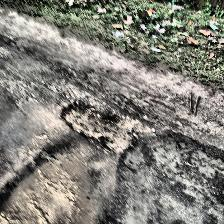pothole: (59, 102, 135, 152)
